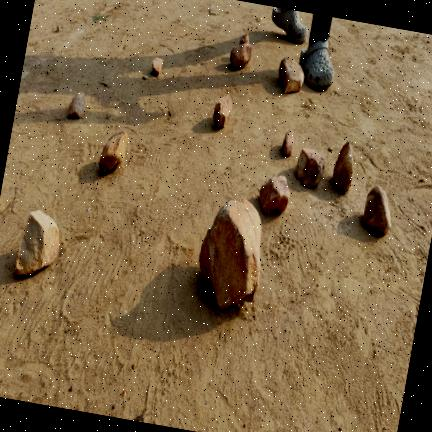Rocks: (198, 199, 260, 310), (14, 210, 58, 275), (362, 186, 390, 234), (98, 131, 127, 172), (296, 148, 324, 188), (259, 176, 288, 214), (332, 142, 352, 193), (278, 58, 303, 93), (212, 94, 231, 128), (229, 44, 252, 70), (68, 92, 85, 118), (281, 130, 293, 156), (151, 58, 162, 75), (238, 34, 248, 45), (121, 390, 126, 398), (54, 25, 59, 33), (142, 75, 147, 80)
